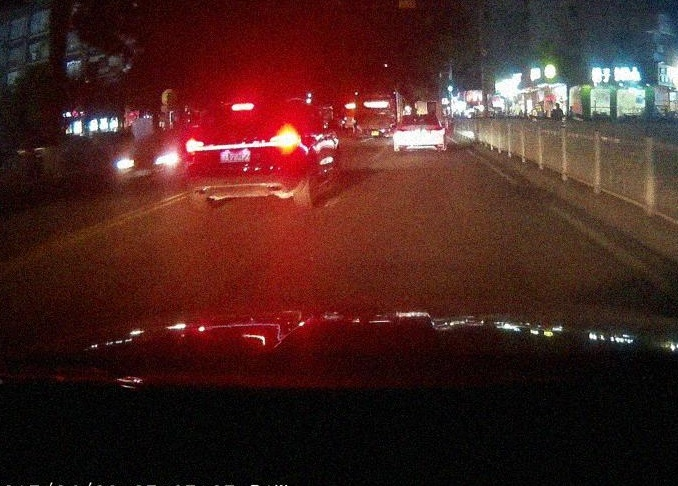L_light: (183, 137, 209, 152)
R_light: (260, 130, 300, 150)
T_light: (230, 103, 255, 110)
night-right: (183, 98, 306, 213)
